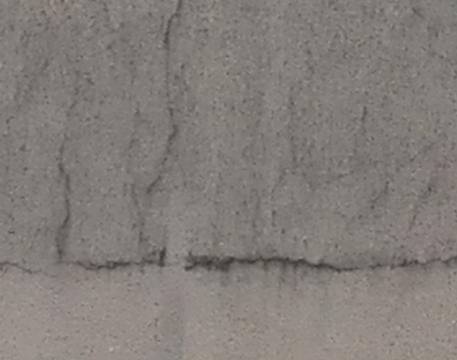termicas: (70, 227, 457, 305), (145, 0, 198, 216), (35, 82, 93, 263)
